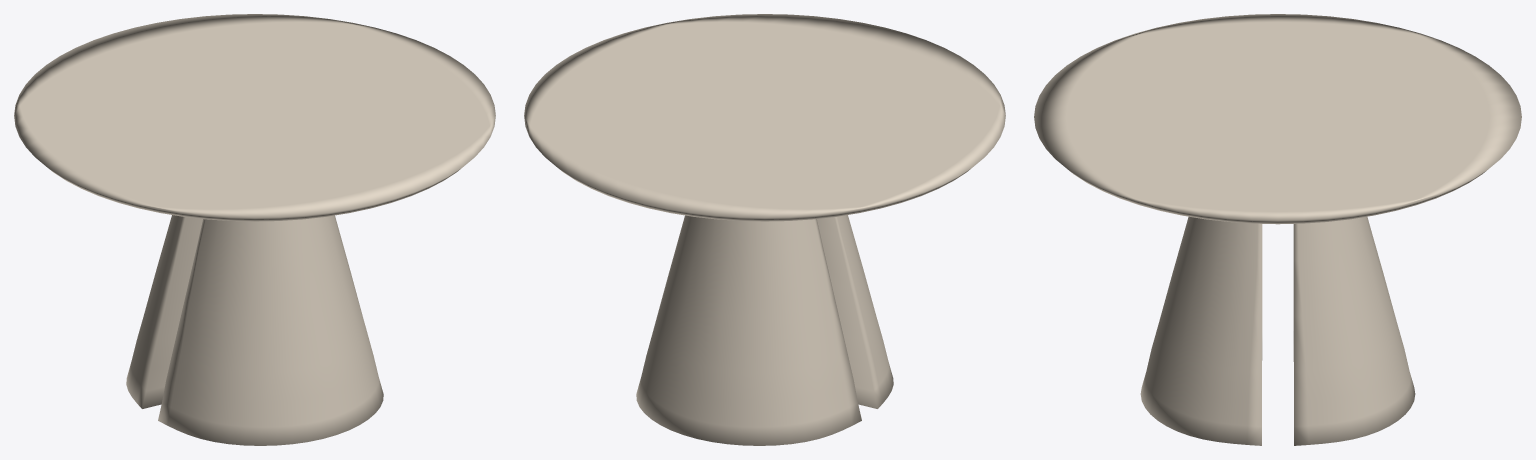
The model's file is table_cone.glb.
The picture shows the model from 3 angles, left to right: view 1: azimuth 30°, elevation 25°; view 2: azimuth 150°, elevation 25°; view 3: azimuth 270°, elevation 25°; orthographic projection.
Parts seen in each view (by area): view 1: TABLE; view 2: TABLE; view 3: TABLE.
Boxes of the visible parts, x1,y1,x2,y2 form: TABLE: [14, 14, 495, 445]; TABLE: [524, 14, 1005, 445]; TABLE: [1034, 14, 1521, 445].
Size of the model in its own units: 1.11 by 0.6944 by 1.11.
